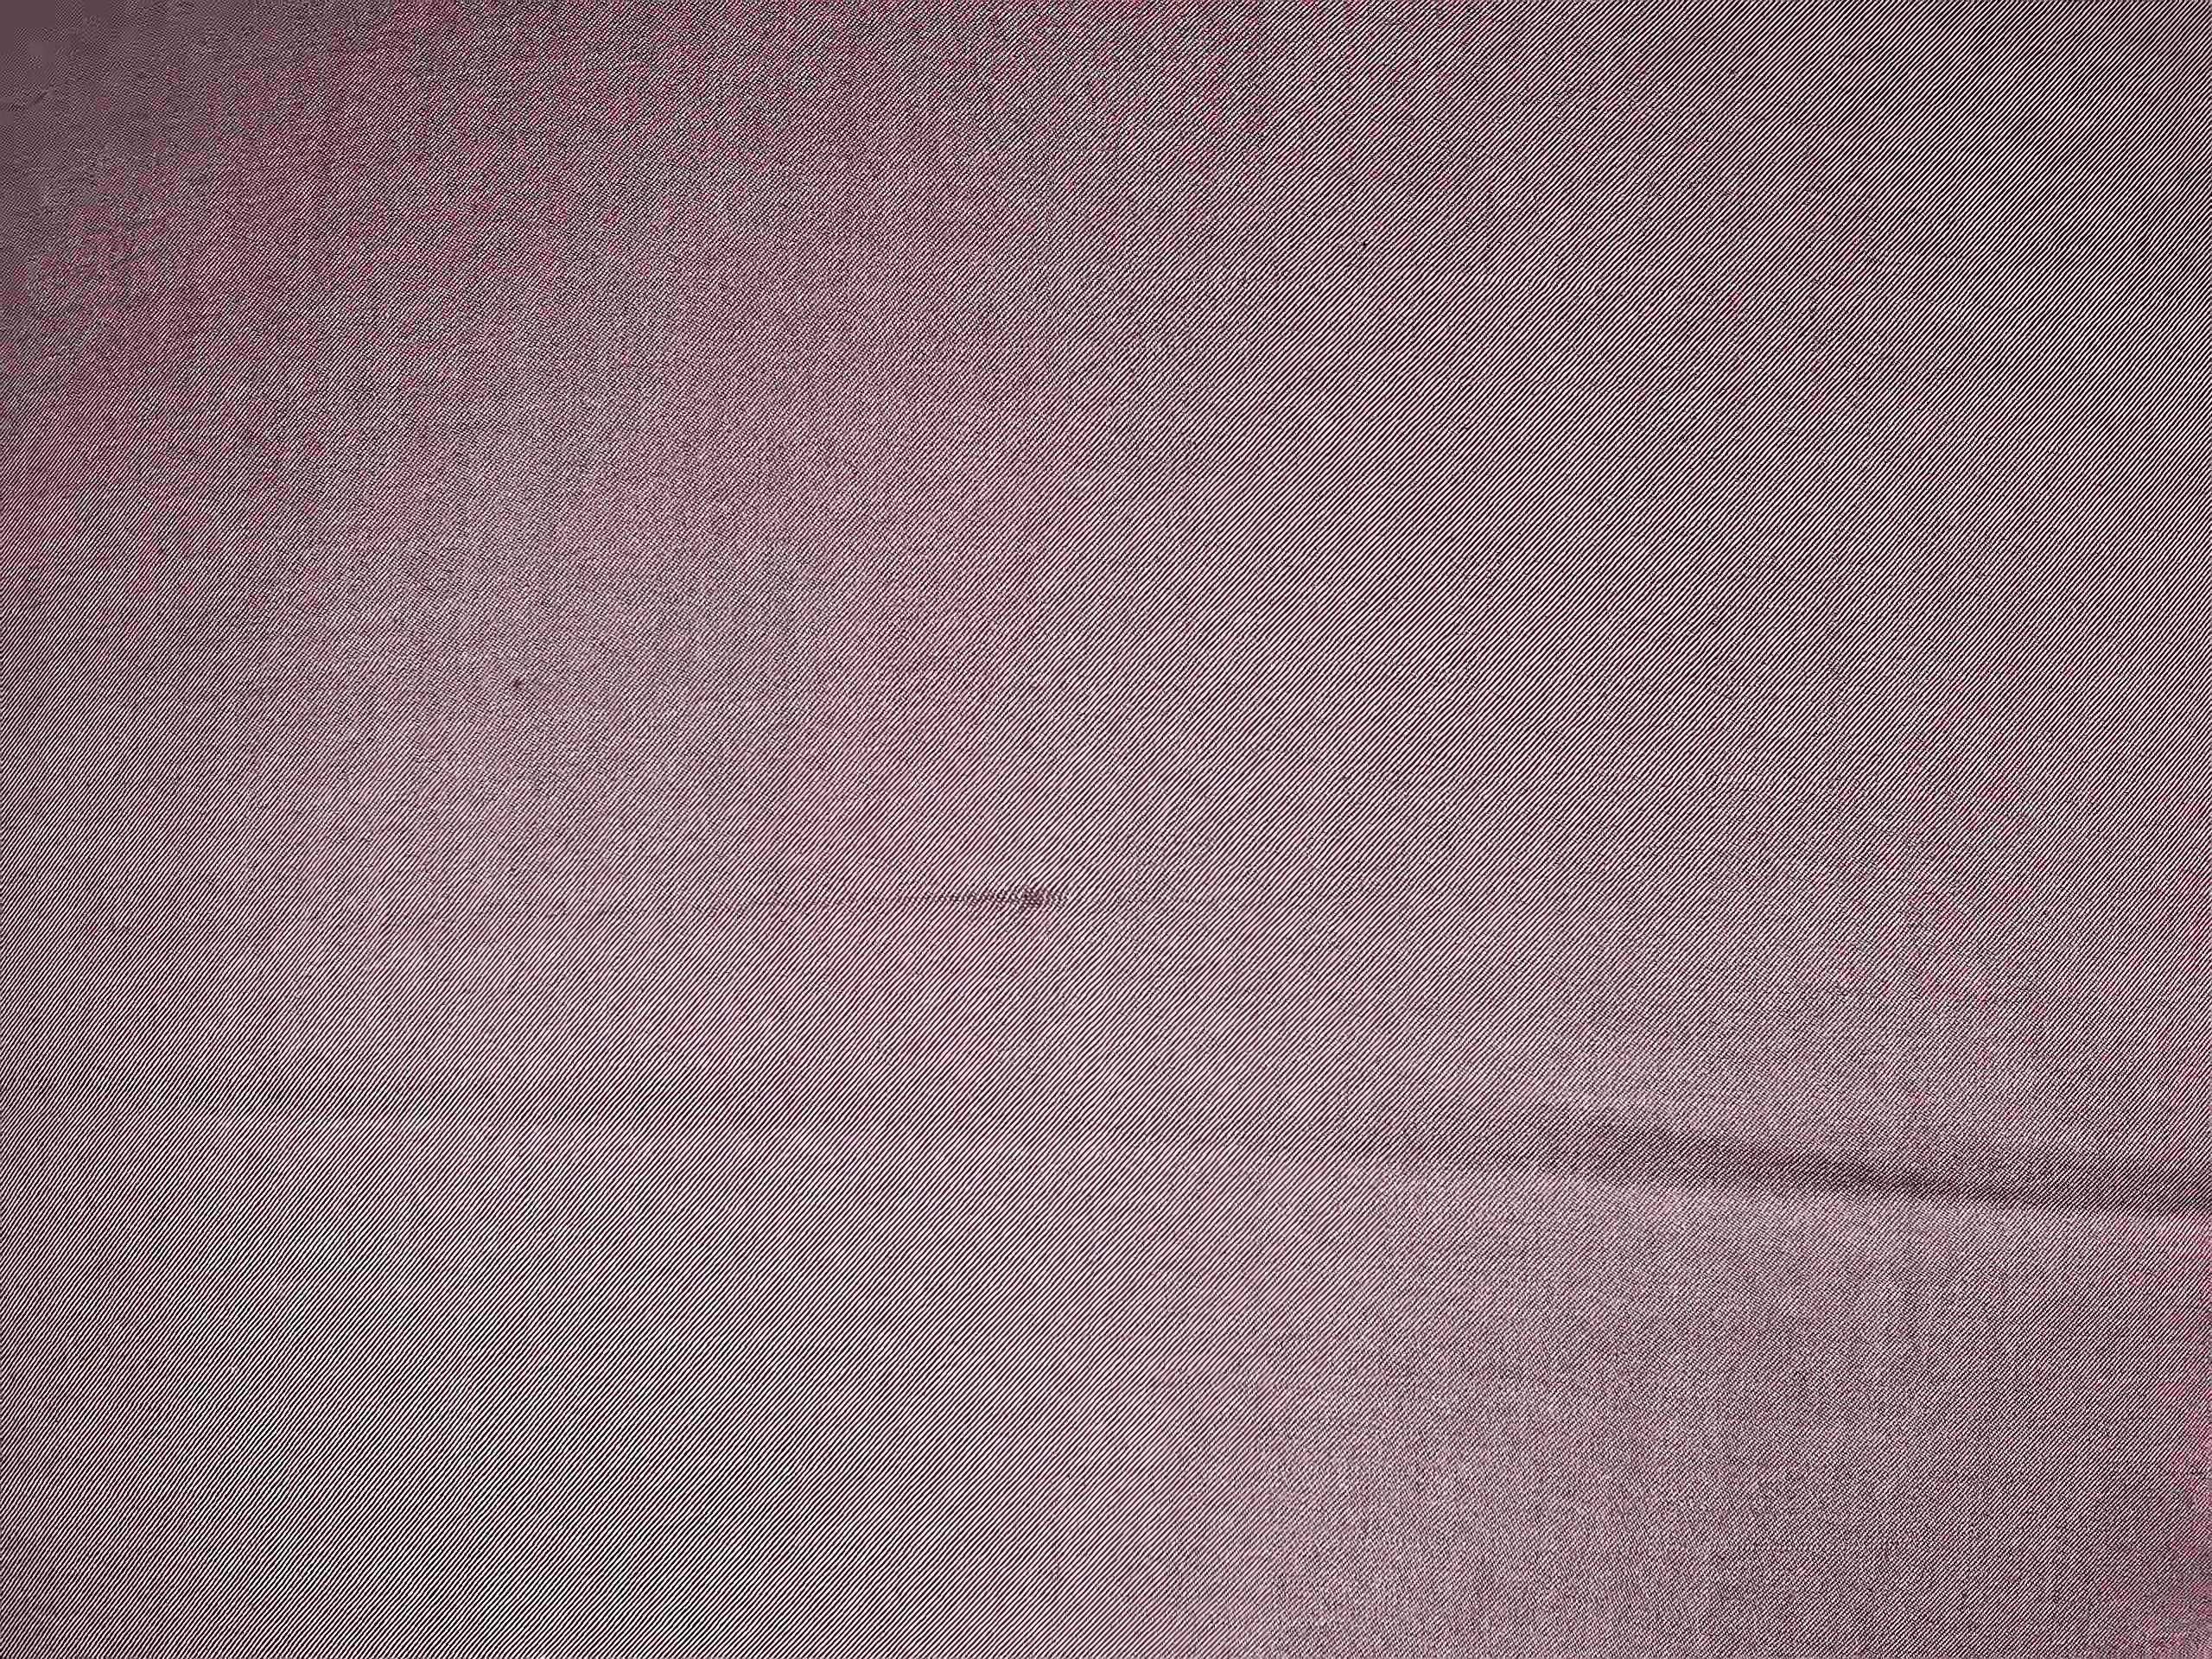thin-spinning: (580, 877, 1291, 934)
